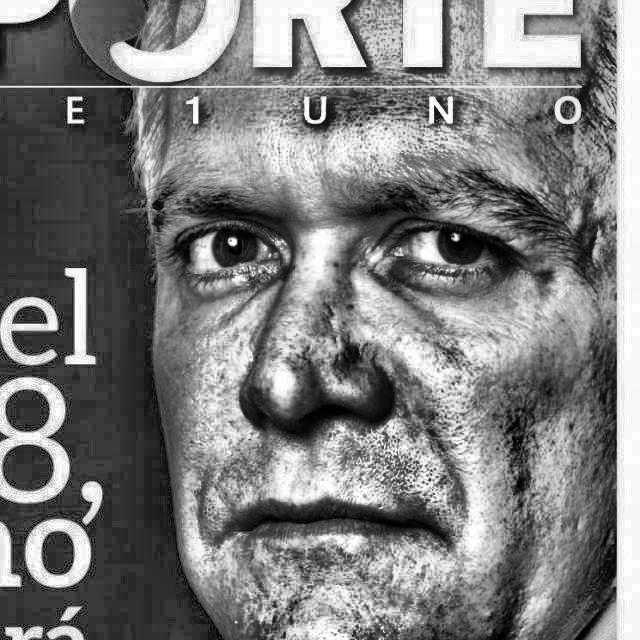sad: (160, 60, 618, 615)
